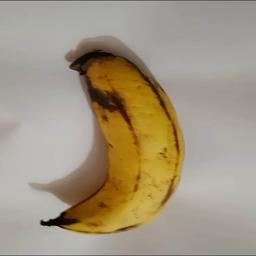Banana Semifresh: (45, 48, 185, 236)
